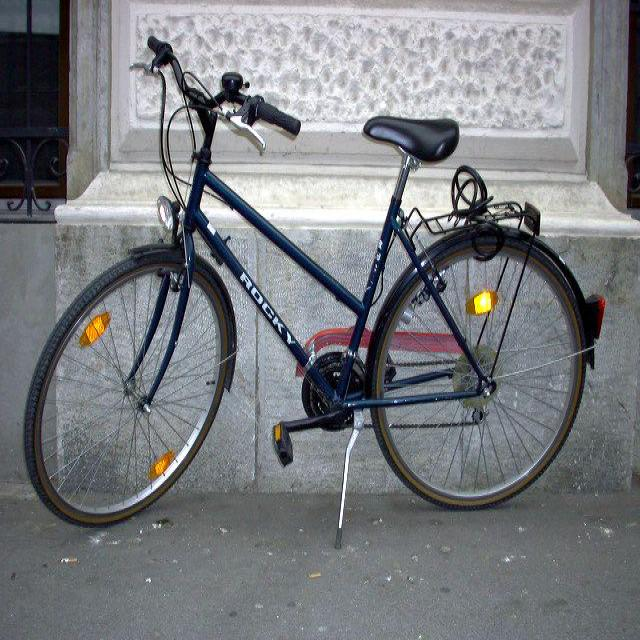bicycle: (22, 35, 599, 542)
